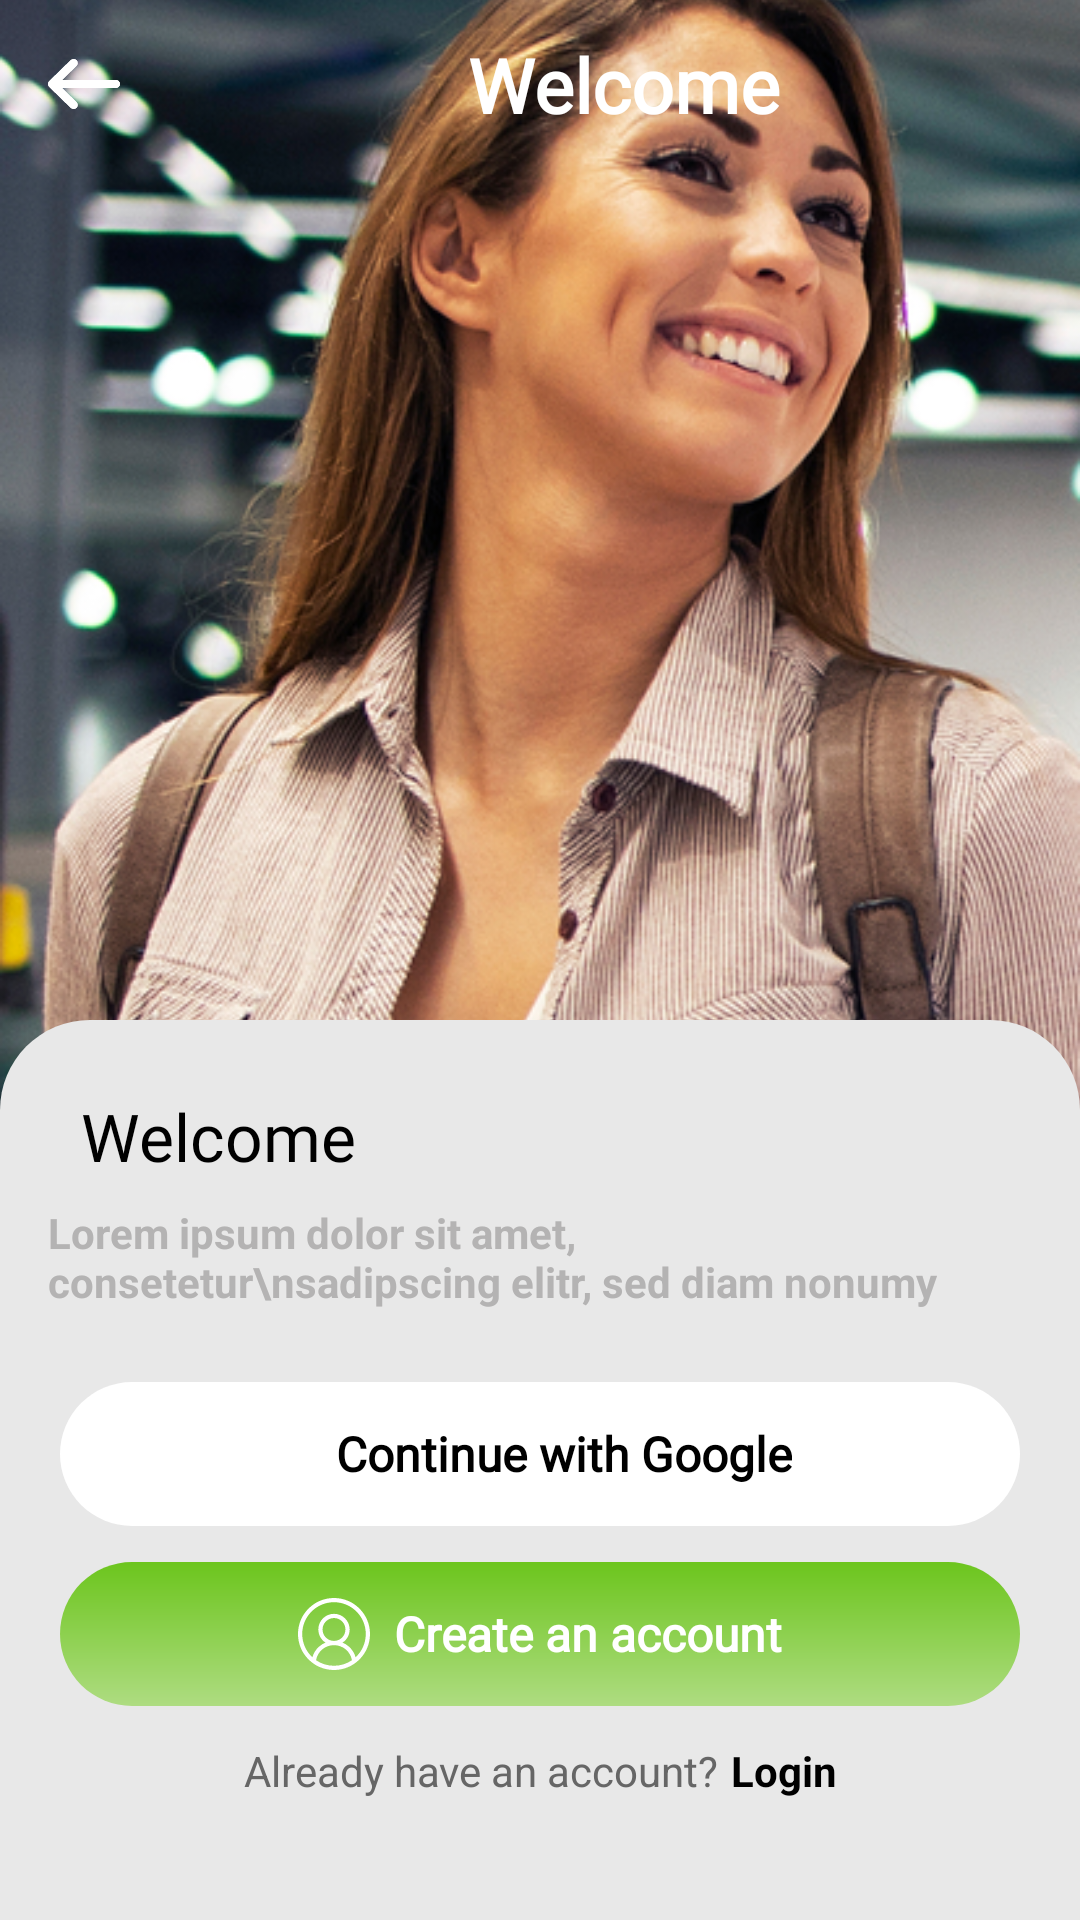

Named icons in this screenshot (1080w x 1920h) and their centers, (x=x, y=y):
Back: (x=84, y=84)
User Icon: (x=334, y=1634)
